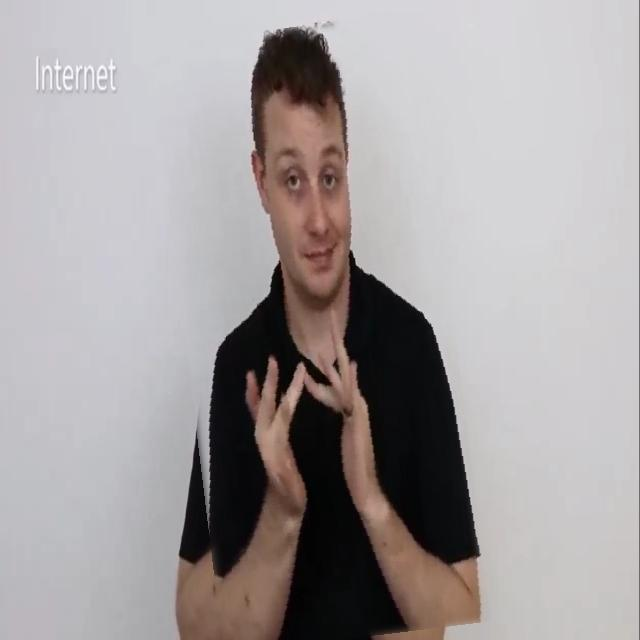Internet: (167, 19, 472, 640)
